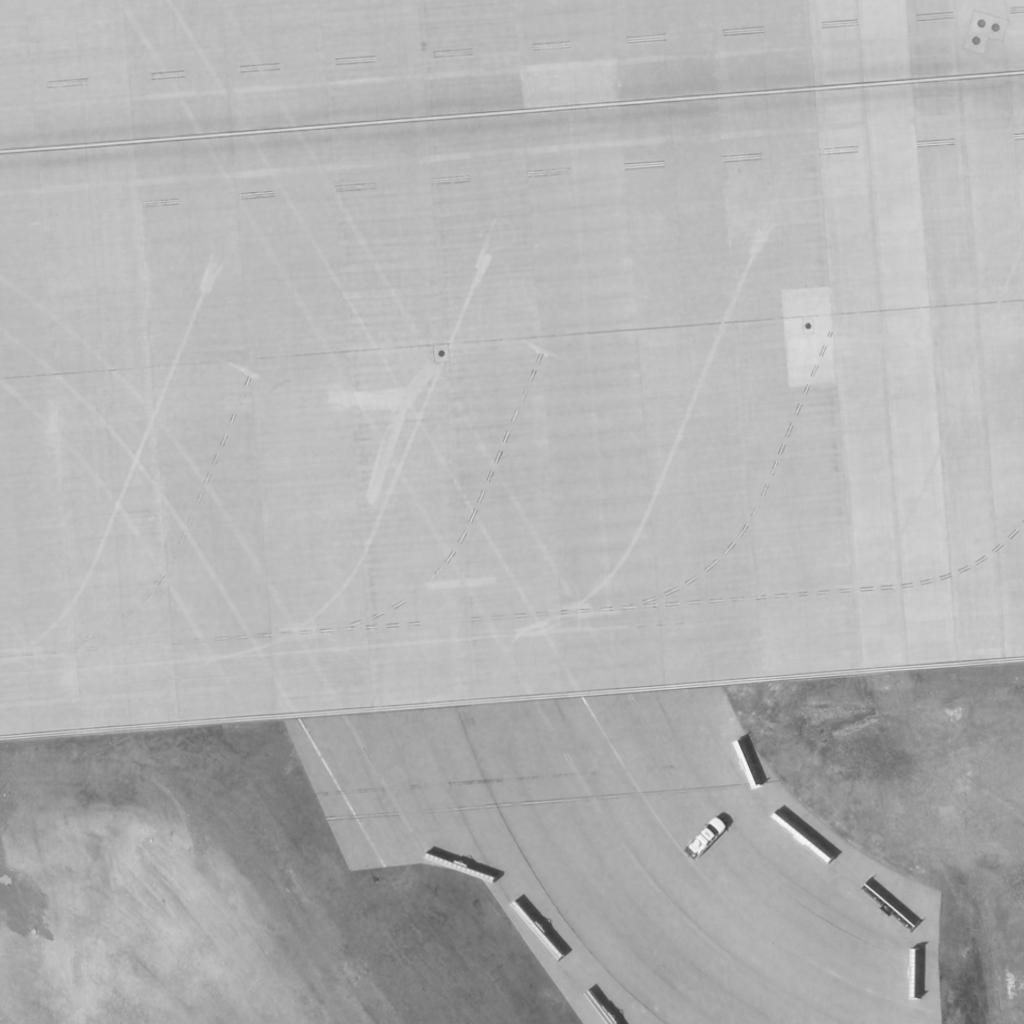vehicle: (686, 817, 728, 857)
